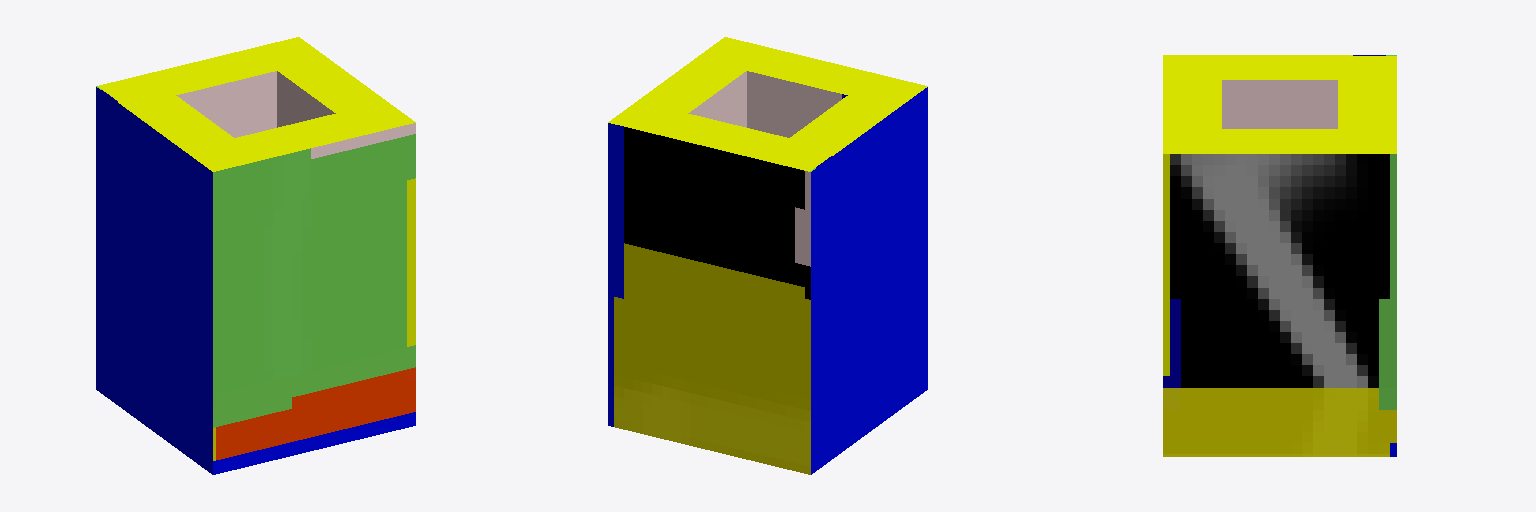
3 renders of one model, left to right at view 1: azimuth 30°, elevation 25°; view 2: azimuth 150°, elevation 25°; view 3: azimuth 270°, elevation 25°, orthographic.
Visible parts, largest first — view 1: Cube; view 2: Cube; view 3: Cube.
Part boxes in pixels (left/top/right/bottom): Cube: left=96, top=37, right=415, bottom=474; Cube: left=608, top=37, right=927, bottom=474; Cube: left=1163, top=55, right=1396, bottom=456.
Bounding box in the file's own units: 6.05 × 8.63 × 6.05.
1 materials, 1 textured.